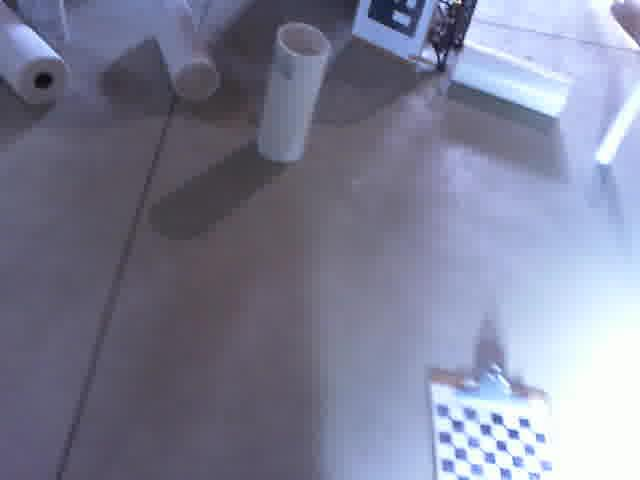coral: (257, 21, 329, 161), (451, 39, 575, 117), (135, 0, 221, 101), (0, 0, 70, 111)
